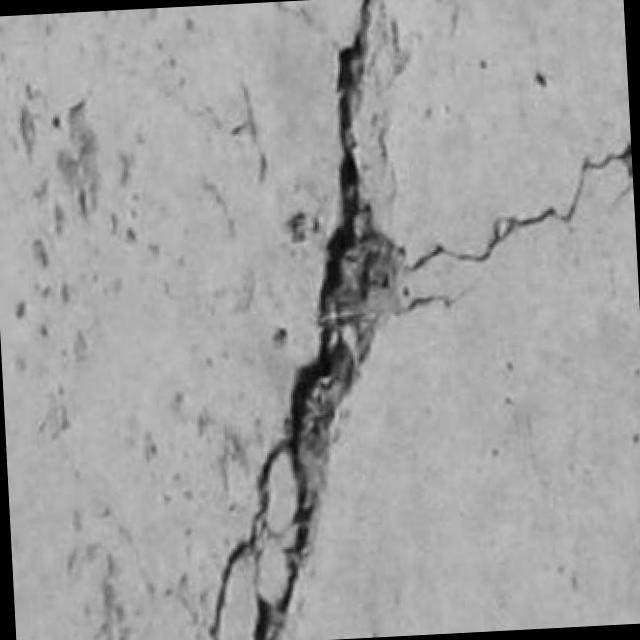crack: (210, 0, 632, 639), (210, 0, 402, 639), (407, 145, 631, 272)
